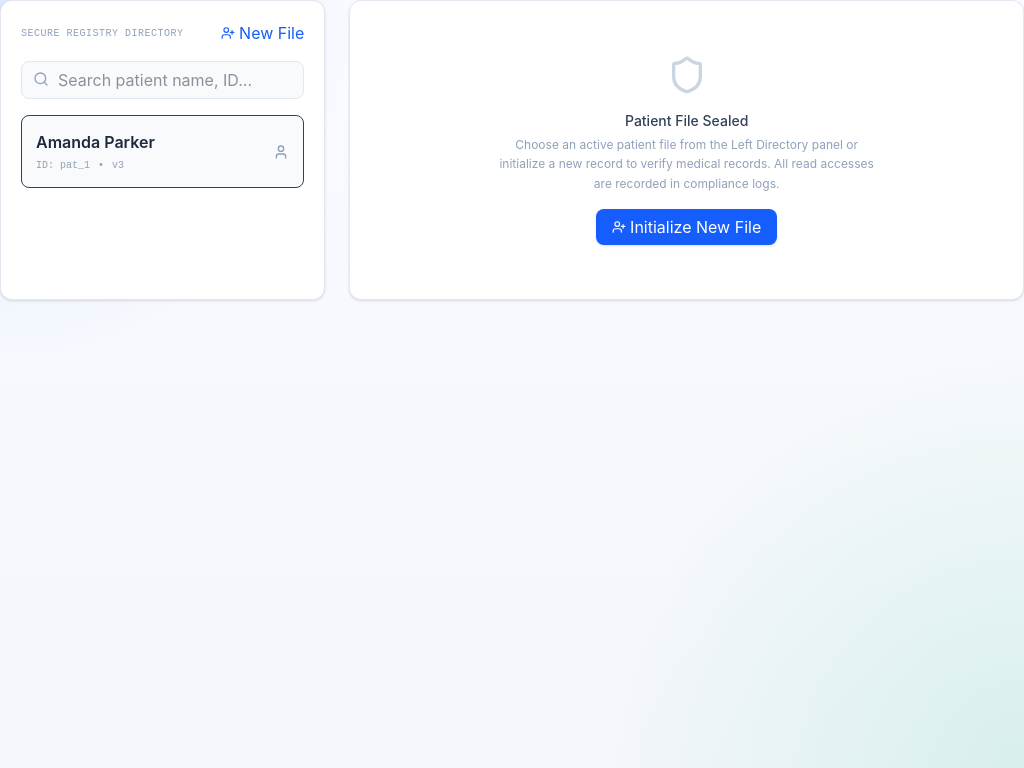
Test case: PatientWorkspace field level access control › falls back to placeholders for empty clinical values
Click the button "Amanda Parker ID: pat_1 • v3" at point(95, 142), box [21, 115, 304, 188]
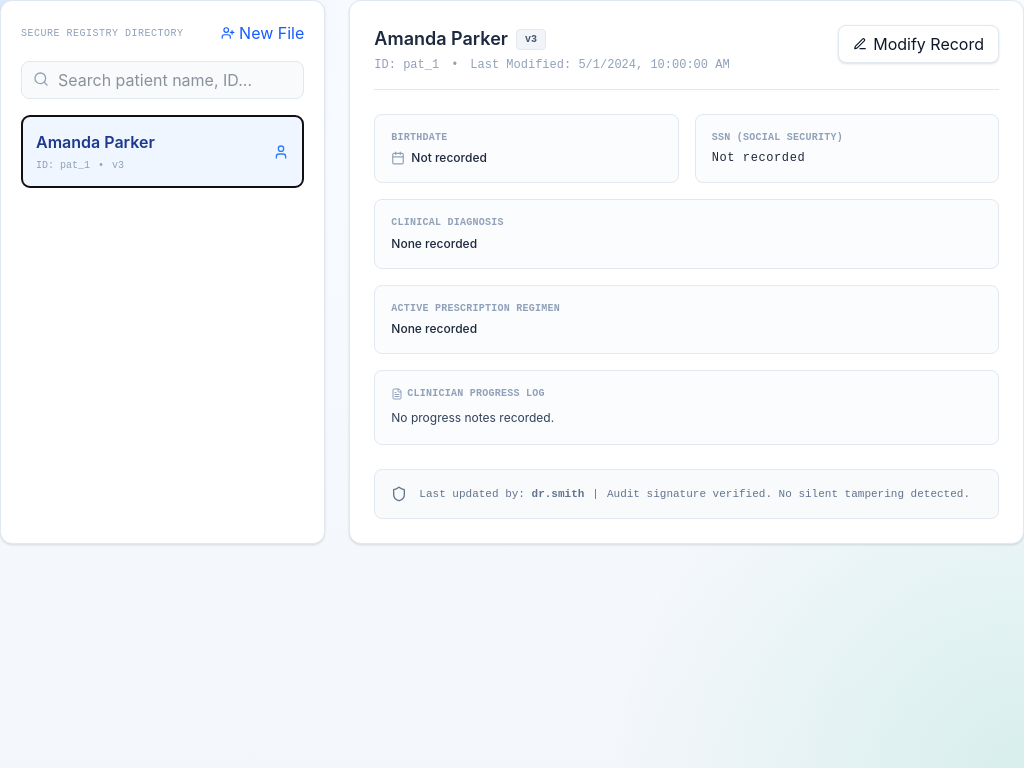
Result: the text "Not recorded" is shown 2 times at [391, 150, 487, 165]; [712, 151, 805, 165]
Result: the text "None recorded" is shown 2 times at [391, 236, 477, 251]; [391, 321, 477, 336]
Result: the text "No progress notes recorded." is shown at [391, 410, 554, 425]
